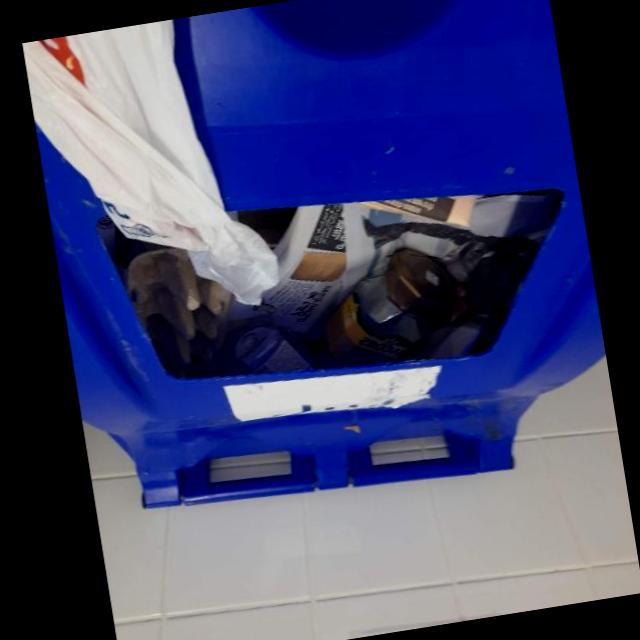chai_nhua: (313, 248, 452, 369), (214, 318, 316, 376)
giay: (228, 194, 557, 333)
tui_ni_long: (22, 19, 280, 305)
